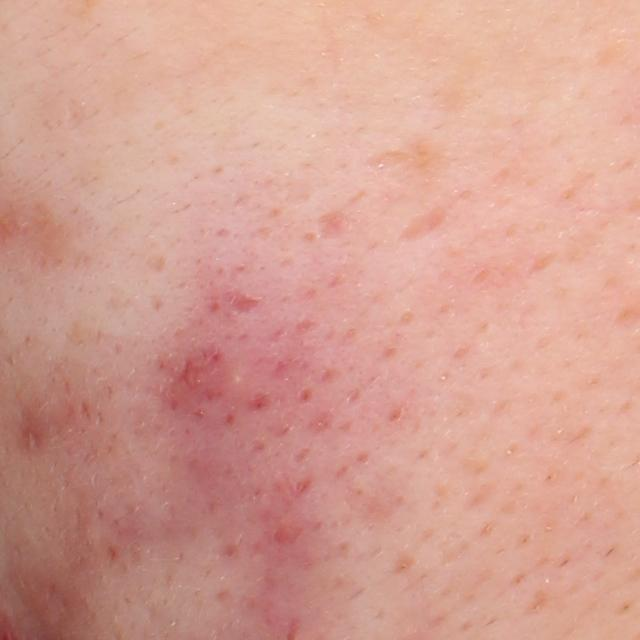atrophic_scar: (314, 208, 342, 239), (227, 288, 259, 313)
